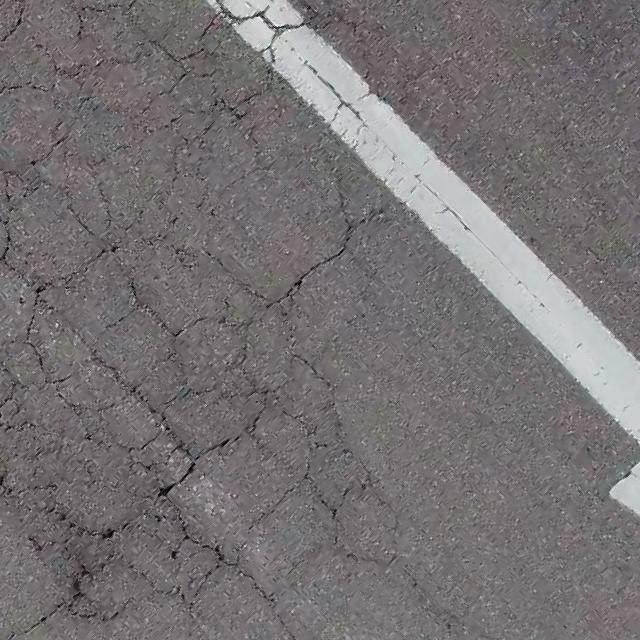GRIETA: (5, 604, 63, 639)
PIEL DE COCODRILO: (0, 0, 505, 639)
